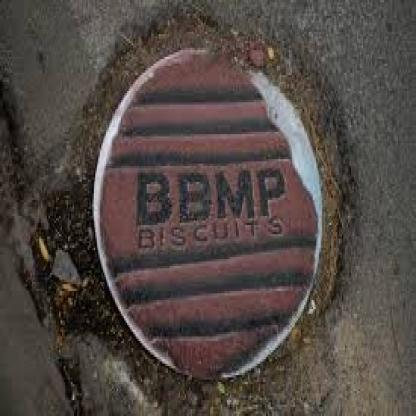manholes: (77, 29, 351, 388)
